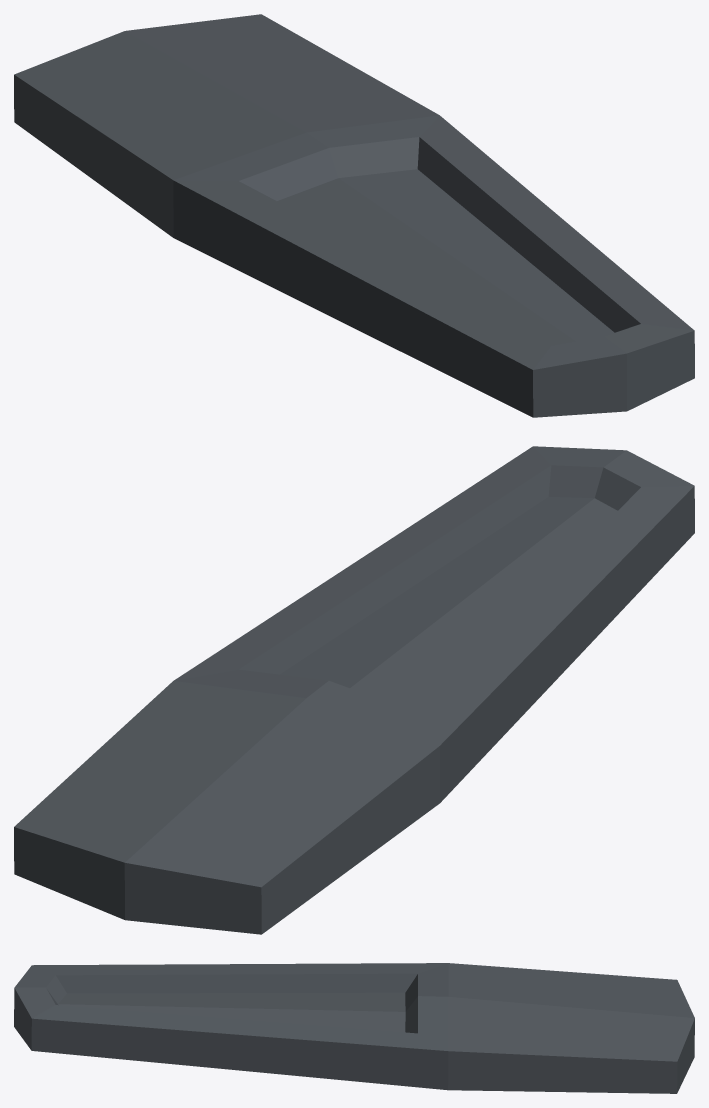
The model's file is Mothership_02_Detail_2_Yellow.fbx.
3 views of the same model, one above another, from view 1: azimuth 30°, elevation 25°; view 2: azimuth 150°, elevation 25°; view 3: azimuth 270°, elevation 25° (orthographic). The views are drawn at different scales.
Visible parts, largest first — view 1: Mothership_02_Detail_2_Yellow; view 2: Mothership_02_Detail_2_Yellow; view 3: Mothership_02_Detail_2_Yellow.
Boxes of the visible parts, x1=… form: Mothership_02_Detail_2_Yellow: x1=14, y1=14, x2=694, y2=417; Mothership_02_Detail_2_Yellow: x1=14, y1=446, x2=694, y2=934; Mothership_02_Detail_2_Yellow: x1=14, y1=963, x2=694, y2=1093.
Size of the model in its own units: 141 by 51.86 by 460.
Materials: 2 (2 with a texture image).
